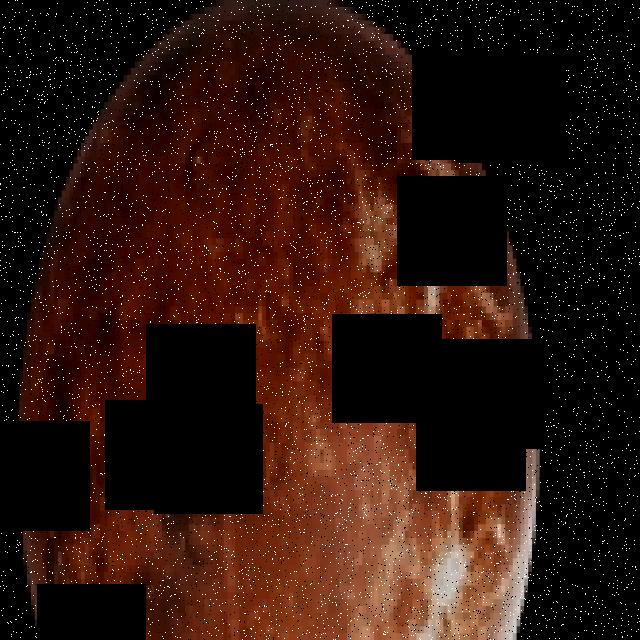Venus: (19, 0, 540, 640)
